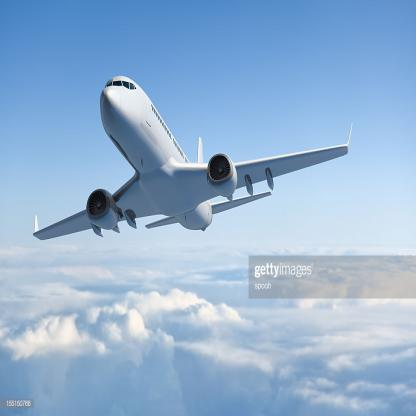CIV_Plane: (28, 71, 354, 242)
